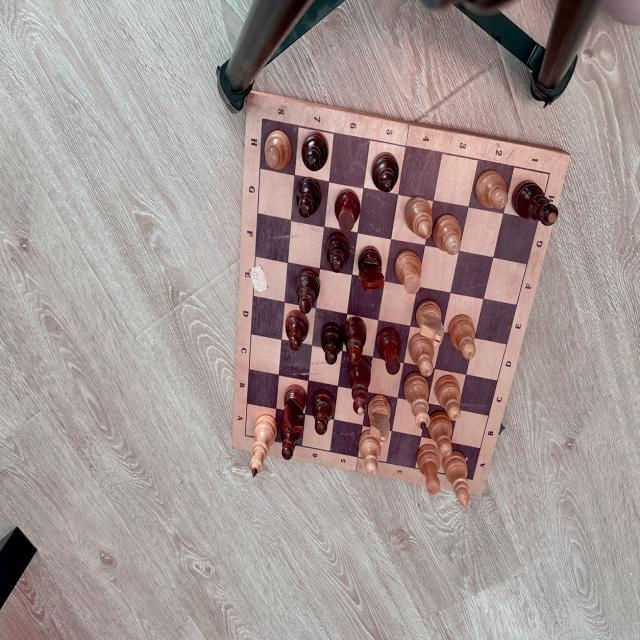chess-table-corners: (545, 167, 554, 181), (257, 114, 267, 125), (242, 431, 248, 440), (470, 476, 476, 484)
